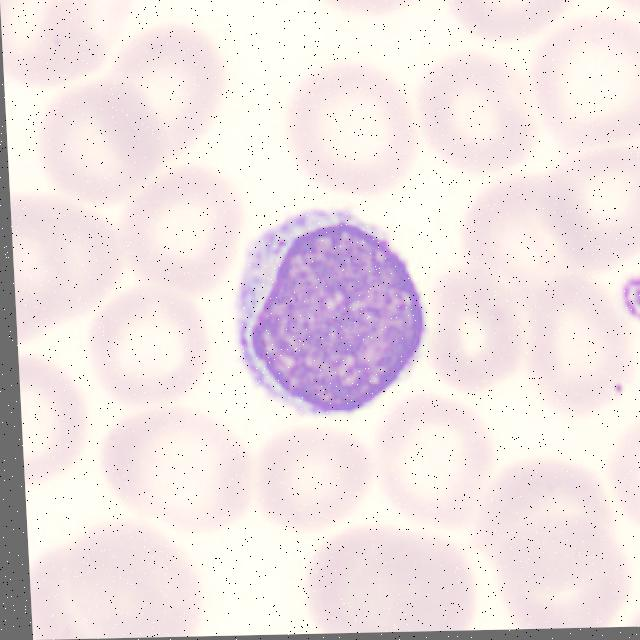lymphocyte: (238, 206, 436, 419)
platelets: (619, 267, 640, 330)
rbc: (47, 521, 206, 640), (10, 187, 130, 340), (112, 164, 252, 293), (103, 406, 246, 528), (287, 61, 417, 191), (374, 385, 493, 527), (471, 452, 623, 563), (287, 511, 430, 625), (41, 78, 171, 202), (493, 522, 639, 630), (86, 283, 212, 405), (521, 279, 629, 421), (460, 167, 577, 289), (423, 54, 537, 176), (248, 417, 373, 523), (421, 270, 526, 390), (0, 0, 145, 86), (543, 22, 640, 148), (126, 26, 225, 148), (362, 529, 478, 632), (548, 151, 640, 265), (28, 546, 134, 640), (18, 353, 87, 480), (448, 0, 589, 44), (605, 400, 640, 532), (314, 0, 428, 18), (598, 0, 640, 7)
